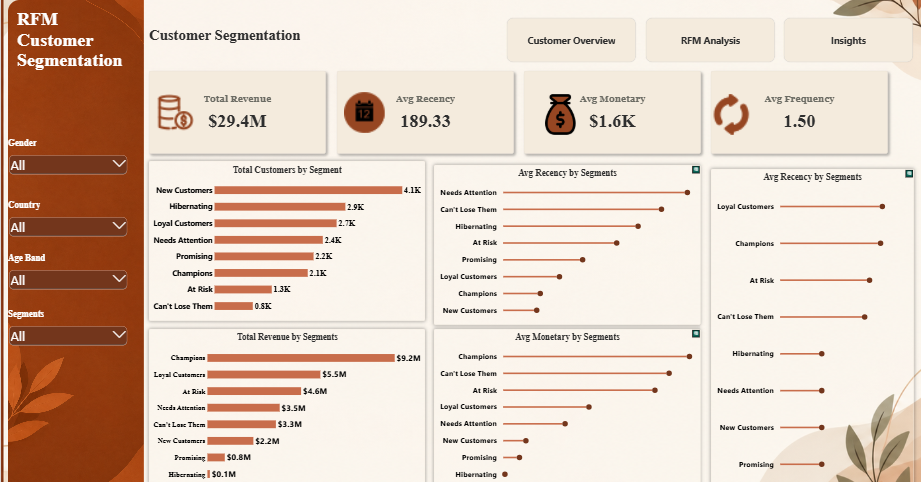

This screenshot's page, from the dashboard's own definition file:
{"tool":"powerbi","page":{"name":"RFM Analysis","canvas":[4000,2160],"ordinal":1},"visuals":[{"type":"image","box":[31.8,0,590.9,2159.1],"z":0},{"type":"shape","box":[68.2,0,518.2,345.5],"z":1000},{"type":"cardVisual","fields":{"Data":["RFM Measures.Total Revenue"]},"box":[645.5,309.1,768.2,359.1],"z":2000},{"type":"image","box":[645.5,404.5,231.8,168.2],"z":3000},{"type":"cardVisual","fields":{"Data":["RFM Measures.Avg Recency"]},"box":[1459.5,309.1,768,359.1],"z":4000},{"type":"image","box":[1490.9,381.8,177.3,213.6],"z":5000},{"type":"clusteredBarChart","title":"Total Revenue by Segments","fields":{"Category":["Segment Lookup.Segment"],"Y":["RFM Measures.Total Revenue"]},"box":[645.5,1431.8,1200,695.5],"z":6000},{"type":"clusteredBarChart","title":"Total Customers by Segment","fields":{"Category":["Segment Lookup.Segment"],"Y":["RFM Measures.Customer Count"]},"box":[645.5,700,1200,695.5],"z":7000},{"type":"lollipopBarChart29115F0ADEDB437DBCDF8E8A3E66E088","title":"Avg Recency by Segments","fields":{"axis":["Segment Lookup.Segment"],"values":["RFM Measures.Avg Recency"]},"box":[1881.8,718.2,1159.1,695.5],"z":8000},{"type":"slicer","fields":{"Values":["DimCustomer.Gender"]},"box":[31.8,668.2,522.7,131.8],"z":9000},{"type":"shape","box":[31.8,572.7,413.6,95.5],"z":10000},{"type":"shape","box":[31.8,845.5,413.6,95.5],"z":11000},{"type":"slicer","fields":{"Values":["DimGeography.Country Region"]},"box":[31.8,940.9,522.7,131.8],"z":12000},{"type":"cardVisual","fields":{"Data":["RFM Measures.Avg Monetary"]},"box":[2273.4,309.1,768,359.1],"z":13000},{"type":"image","box":[2341.8,391.8,177.3,213.6],"z":14000},{"type":"cardVisual","fields":{"Data":["RFM Measures.Avg Frequency"]},"box":[3086.4,309.1,768,359.1],"z":15000},{"type":"image","box":[3086.4,390.9,177.3,213.6],"z":16000},{"type":"shape","box":[31.8,1072.7,413.6,95.5],"z":17000},{"type":"slicer","fields":{"Values":["DimCustomer.Age Band"]},"box":[31.8,1168.2,522.7,131.8],"z":18000},{"type":"shape","box":[31.8,1318.2,413.6,95.5],"z":19000},{"type":"slicer","fields":{"Values":["Segment Lookup.Segment"]},"box":[31.8,1413.6,522.7,131.8],"z":20000},{"type":"actionButton","box":[2195.5,72.7,568.2,200],"z":21000},{"type":"actionButton","box":[2800,72.7,568.2,200],"z":22000},{"type":"actionButton","box":[3400,72.7,568.2,200],"z":23000},{"type":"shape","box":[645.5,36.4,1386.4,236.4],"z":24000},{"type":"lollipopBarChart29115F0ADEDB437DBCDF8E8A3E66E088","title":"Avg Monetary by Segments","fields":{"axis":["Segment Lookup.Segment"],"values":["RFM Measures.Avg Monetary"]},"box":[1881.8,1431.8,1159.1,695.5],"z":25000},{"type":"lollipopBarChart29115F0ADEDB437DBCDF8E8A3E66E088","title":"Avg Recency by Segments","fields":{"axis":["Segment Lookup.Segment"],"values":["RFM Measures.Avg Frequency"]},"box":[3086.4,736.4,881.8,1390.9],"z":26000}]}

Visuals, with their boxes on the page's 4000x2160 design canvas (x1, y1, x2, y2). These are canvas units, not pixel positions in the 921x482 screenshot, which may show the page scaled, cropped or inside an application window:
image: crop(32, 0, 623, 2159)
shape: crop(68, 0, 586, 346)
cardVisual - RFM Measures.Total Revenue: crop(646, 309, 1414, 668)
image: crop(646, 404, 877, 573)
cardVisual - RFM Measures.Avg Recency: crop(1460, 309, 2228, 668)
image: crop(1491, 382, 1668, 595)
"Total Revenue by Segments" clusteredBarChart: crop(646, 1432, 1846, 2127)
"Total Customers by Segment" clusteredBarChart: crop(646, 700, 1846, 1396)
"Avg Recency by Segments" lollipopBarChart29115F0ADEDB437DBCDF8E8A3E66E088: crop(1882, 718, 3041, 1414)
slicer - DimCustomer.Gender: crop(32, 668, 554, 800)
shape: crop(32, 573, 445, 668)
shape: crop(32, 846, 445, 941)
slicer - DimGeography.Country Region: crop(32, 941, 554, 1073)
cardVisual - RFM Measures.Avg Monetary: crop(2273, 309, 3041, 668)
image: crop(2342, 392, 2519, 605)
cardVisual - RFM Measures.Avg Frequency: crop(3086, 309, 3854, 668)
image: crop(3086, 391, 3264, 604)
shape: crop(32, 1073, 445, 1168)
slicer - DimCustomer.Age Band: crop(32, 1168, 554, 1300)
shape: crop(32, 1318, 445, 1414)
slicer - Segment Lookup.Segment: crop(32, 1414, 554, 1545)
actionButton: crop(2196, 73, 2764, 273)
actionButton: crop(2800, 73, 3368, 273)
actionButton: crop(3400, 73, 3968, 273)
shape: crop(646, 36, 2032, 273)
"Avg Monetary by Segments" lollipopBarChart29115F0ADEDB437DBCDF8E8A3E66E088: crop(1882, 1432, 3041, 2127)
"Avg Recency by Segments" lollipopBarChart29115F0ADEDB437DBCDF8E8A3E66E088: crop(3086, 736, 3968, 2127)
